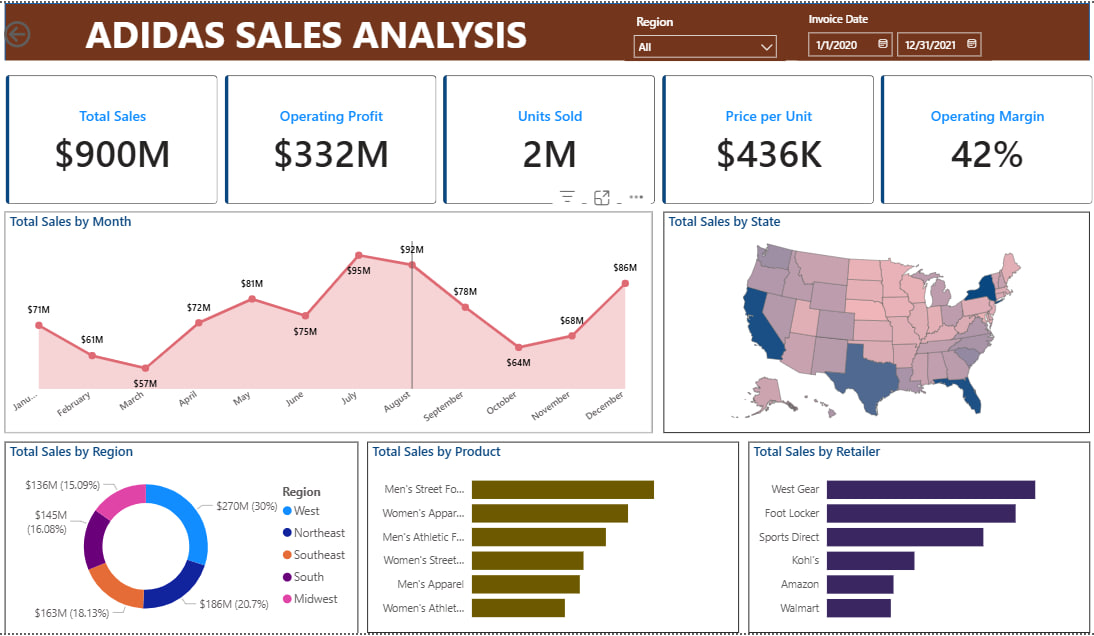

The dashboard page shown, as its layout file describes it:
{"tool":"powerbi","page":{"name":"Page 1","canvas":[1280,720],"ordinal":0},"visuals":[{"type":"shape","box":[15.7,0,1240,70],"z":0},{"type":"textbox","box":[102.9,0,536.5,70],"z":1000},{"type":"cardVisual","fields":{"Data":["Sum(Data Sales Adidas.Total Sales)","Sum(Data Sales Adidas.Operating Profit)","Sum(Data Sales Adidas.Units Sold)","Sum(Data Sales Adidas.Price per Unit)","Avg(Data Sales Adidas.Operating Margin)"]},"box":[0,65.7,1280,181.4],"z":2000},{"type":"areaChart","title":"Total Sales by Month","fields":{"Category":["Data Sales Adidas.Invoice Date.Variation.Date Hierarchy.Month"],"Y":["Sum(Data Sales Adidas.Total Sales)"]},"box":[15.7,238.6,740,252.9],"z":3000},{"type":"shapeMap","title":"Total Sales by State","fields":{"Category":["Data Sales Adidas.State"],"Value":["Sum(Data Sales Adidas.Total Sales)"]},"box":[768.6,238.6,487.1,252.9],"z":4000},{"type":"actionButton","box":[10,15.7,100,40],"z":5000},{"type":"donutChart","title":"Total Sales by Region","fields":{"Category":["Data Sales Adidas.Region"],"Y":["Sum(Data Sales Adidas.Total Sales)"]},"box":[15.7,501.4,404.3,220],"z":6000},{"type":"barChart","title":"Total Sales by Product","fields":{"Category":["Data Sales Adidas.Product"],"Y":["Sum(Data Sales Adidas.Total Sales)"]},"box":[430,501.7,425,218.3],"z":7000},{"type":"barChart","title":"Total Sales by Retailer","fields":{"Category":["Data Sales Adidas.Retailer"],"Y":["Sum(Data Sales Adidas.Total Sales)"]},"box":[865.7,501.4,390,218.6],"z":8000},{"type":"slicer","fields":{"Values":["Data Sales Adidas.Region"]},"box":[724.5,6.9,183.9,59],"z":9000},{"type":"slicer","fields":{"Values":["Data Sales Adidas.Invoice Date"]},"box":[920.8,5.5,222.3,60.4],"z":10000}]}

Visuals, with their boxes in screenshot pixels (x1, y1, x2, y2):
shape: detection(2, 0, 1086, 61)
textbox: detection(79, 0, 547, 61)
cardVisual - Sum(Data Sales Adidas.Total Sales) x Sum(Data Sales Adidas.Operating Profit): detection(0, 57, 1093, 216)
"Total Sales by Month" areaChart: detection(2, 209, 649, 429)
"Total Sales by State" shapeMap: detection(660, 209, 1086, 429)
actionButton: detection(0, 14, 85, 49)
"Total Sales by Region" donutChart: detection(2, 438, 356, 630)
"Total Sales by Product" barChart: detection(364, 438, 736, 629)
"Total Sales by Retailer" barChart: detection(745, 438, 1086, 629)
slicer - Data Sales Adidas.Region: detection(622, 6, 782, 58)
slicer - Data Sales Adidas.Invoice Date: detection(793, 5, 987, 58)
